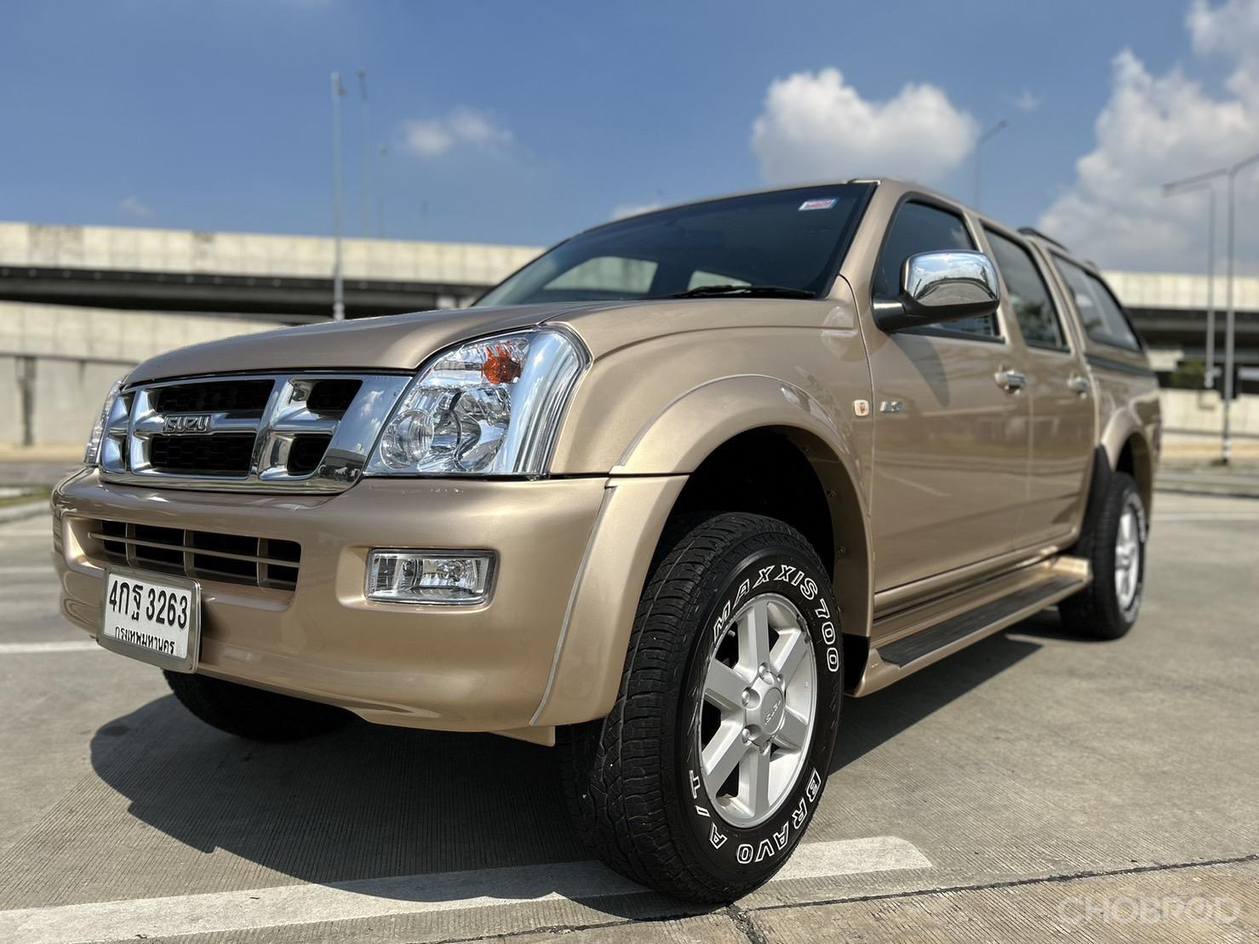license-plate: (91, 565, 205, 683)
